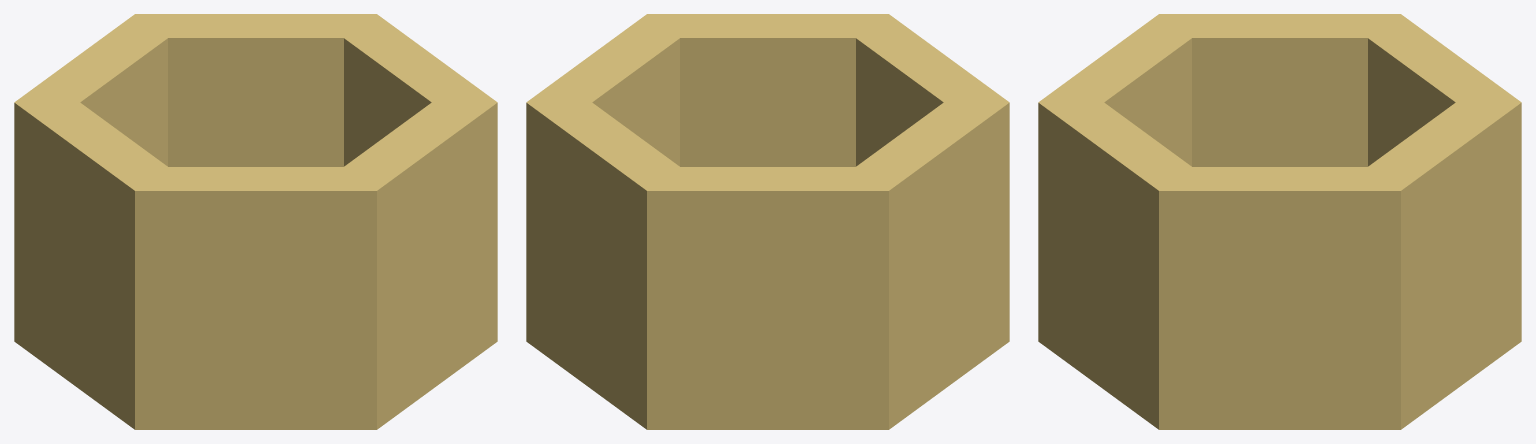
File: prop-drawknife-ferrule-dk1.fbx
The picture shows the model from 3 angles, left to right: view 1: azimuth 30°, elevation 25°; view 2: azimuth 150°, elevation 25°; view 3: azimuth 270°, elevation 25°; orthographic projection.
Visible parts, largest first — view 1: prop-drawknife-ferrule-dk1; view 2: prop-drawknife-ferrule-dk1; view 3: prop-drawknife-ferrule-dk1.
Part boxes in pixels (x1,y1,x2,y2): prop-drawknife-ferrule-dk1: (14,14,497,429); prop-drawknife-ferrule-dk1: (526,14,1009,429); prop-drawknife-ferrule-dk1: (1038,14,1521,429).
Size of the model in its own units: 1.91 by 1.2 by 2.2.
